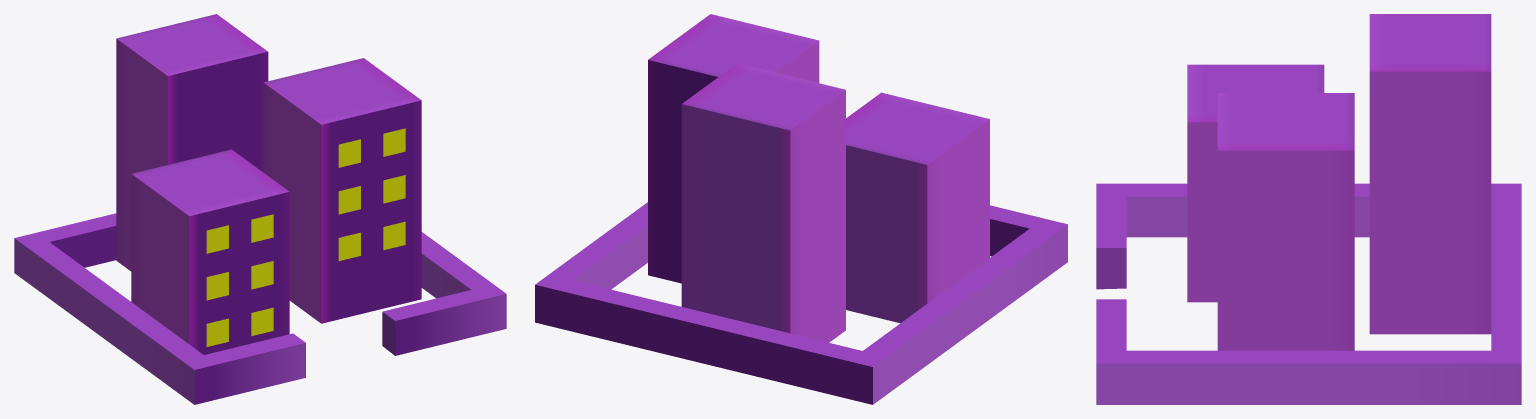
File: City.PurpleLightning.glb
The picture shows the model from 3 angles, left to right: view 1: azimuth 30°, elevation 25°; view 2: azimuth 150°, elevation 25°; view 3: azimuth 270°, elevation 25°; orthographic projection. The views are drawn at different scales.
Parts seen in each view (by area): view 1: City.PurpleLightning; view 2: City.PurpleLightning; view 3: City.PurpleLightning.
Boxes of the visible parts, left/top/right/bottom form: City.PurpleLightning: left=14, top=14, right=506, bottom=404; City.PurpleLightning: left=535, top=14, right=1067, bottom=404; City.PurpleLightning: left=1096, top=14, right=1521, bottom=404.
Size of the model in its own units: 2.8 by 1.91 by 2.8.
Materials: 2 (1 with a texture image).
